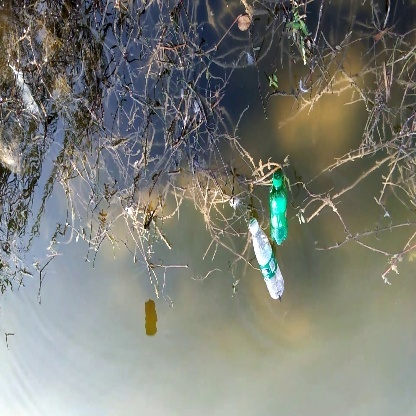bottle: (247, 217, 290, 301), (266, 168, 293, 247)
